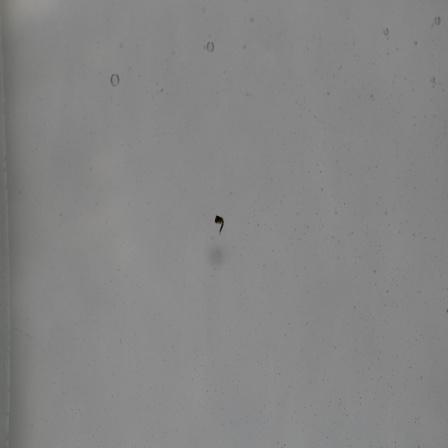Jentik-Nyamuk: (210, 210, 227, 238)
